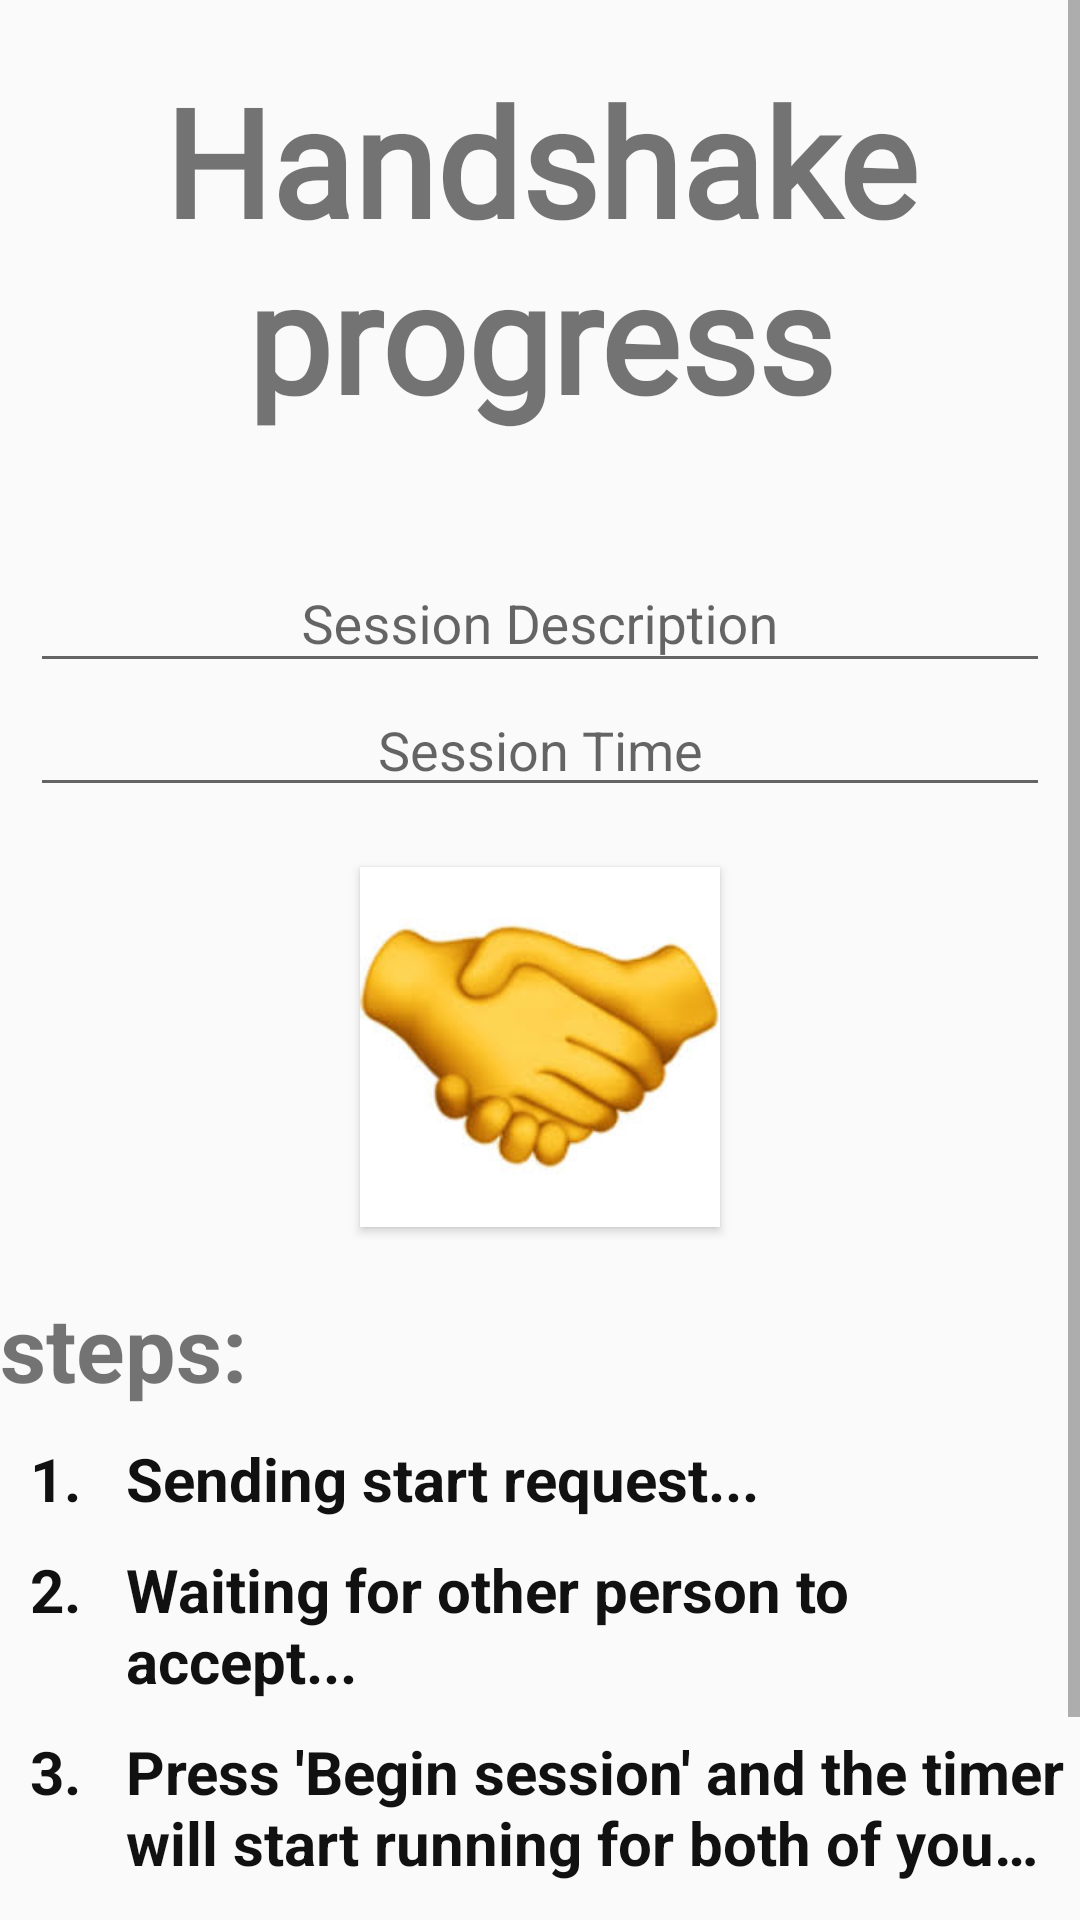

Icon click points for this 1080px x 1920px phone screenshot, format (x=x, y=y):
handshake: (x=539, y=1047)
